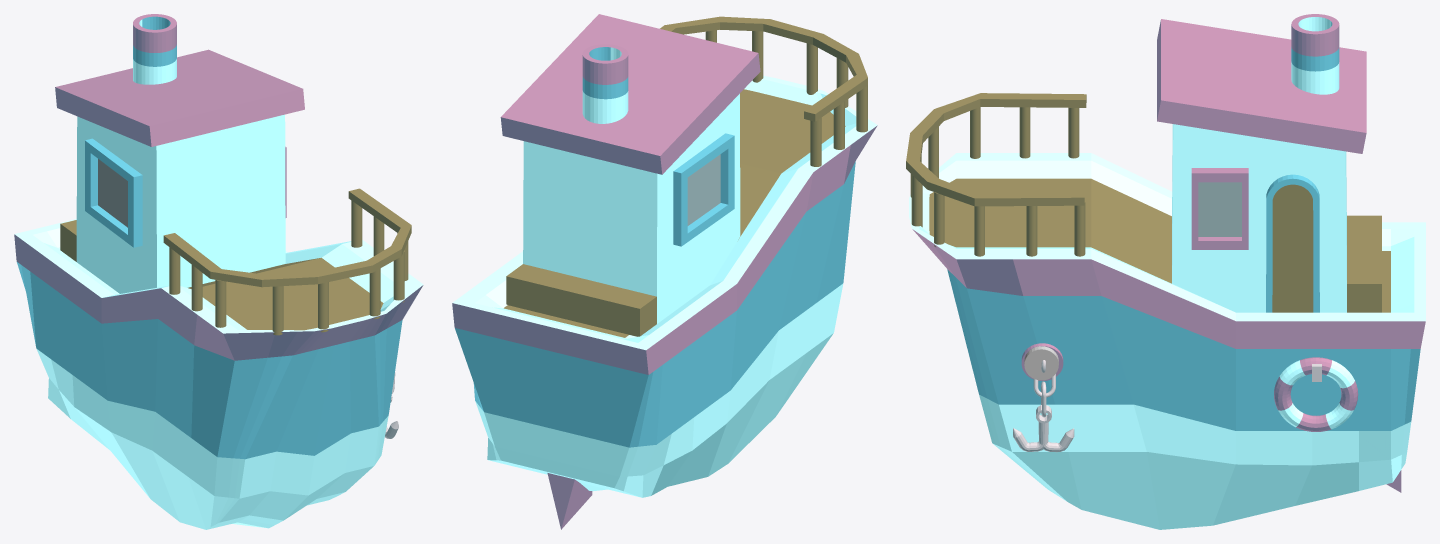
File: boat.fbx
3 renders of one model, left to right at view 1: azimuth 30°, elevation 25°; view 2: azimuth 150°, elevation 25°; view 3: azimuth 270°, elevation 25°, orthographic. The views are drawn at different scales.
Visible parts, largest first — view 1: Cube, Cube.001, Cube.002, Cube.005, Cylinder.006, Cylinder.007, Cylinder.004, Cylinder.005, Cylinder.003, Cylinder, Cylinder.009, Cylinder.008; view 2: Cube, Cube.001, Cube.005, Cube.002, Cube.003, Cylinder.005, Cylinder.009, Cylinder.008, Cylinder.007; view 3: Cube, Cube.001, Cylinder.010, Cube.002, Cube.004, Torus, Cylinder.011, Cylinder, Cylinder.008, Cylinder.001, Cylinder.009.
Boxes of the visible parts, <box> form: Cube: <box>14,219,423,529</box>; Cube.001: <box>55,14,304,293</box>; Cube.002: <box>163,188,411,287</box>; Cube.005: <box>85,138,142,247</box>; Cylinder.006: <box>272,286,283,335</box>; Cylinder.007: <box>215,280,226,327</box>; Cylinder.004: <box>369,268,380,319</box>; Cylinder.005: <box>318,282,328,332</box>; Cylinder.003: <box>393,250,404,302</box>; Cylinder: <box>351,200,362,247</box>; Cylinder.009: <box>169,247,180,294</box>; Cylinder.008: <box>191,265,202,311</box>; Cube: <box>452,75,877,497</box>; Cube.001: <box>500,14,760,336</box>; Cube.005: <box>673,133,734,246</box>; Cube.002: <box>660,16,867,121</box>; Cube.003: <box>547,473,592,529</box>; Cylinder.005: <box>806,43,817,94</box>; Cylinder.009: <box>810,117,821,166</box>; Cylinder.008: <box>833,101,844,149</box>; Cylinder.007: <box>856,85,867,132</box>; Cube: <box>909,153,1425,529</box>; Cube.001: <box>1157,14,1381,312</box>; Cylinder.010: <box>1266,174,1319,312</box>; Cube.002: <box>906,93,1086,206</box>; Cube.004: <box>1191,168,1248,249</box>; Torus: <box>1274,357,1358,431</box>; Cylinder.011: <box>1024,346,1058,380</box>; Cylinder: <box>1074,201,1085,256</box>; Cylinder.008: <box>1019,107,1030,158</box>; Cylinder.001: <box>1026,206,1037,256</box>; Cylinder.009: <box>1068,108,1079,158</box>.
Size of the model in its own units: 2959 by 3065 by 1528.
